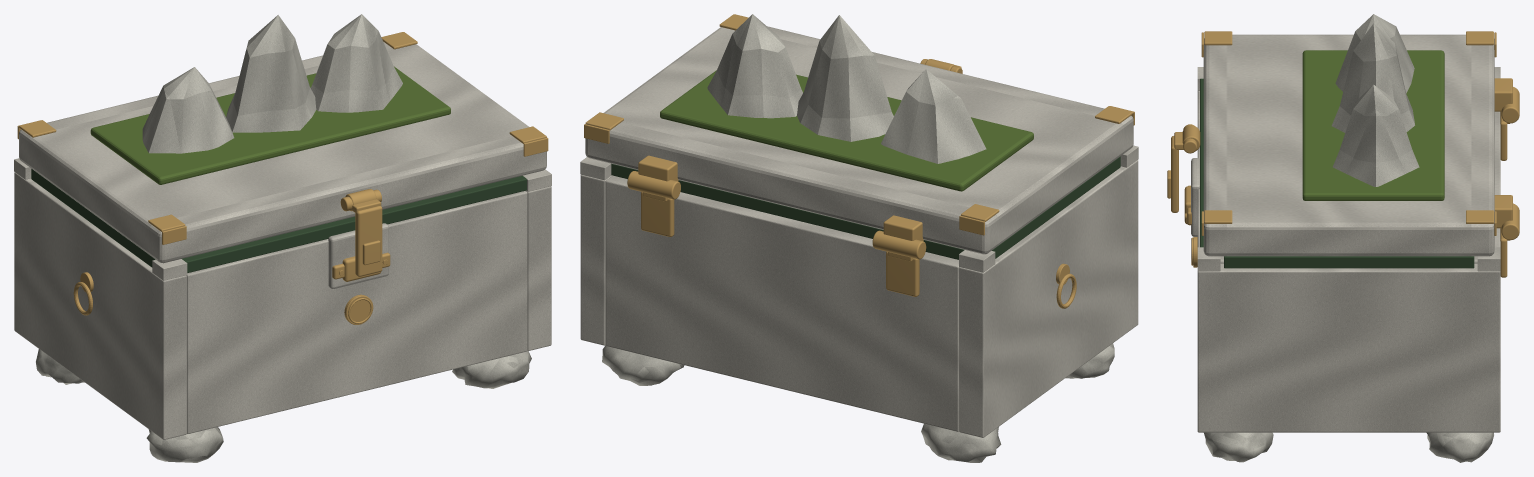
The model's file is liechtenstein.glb.
The picture shows the model from 3 angles, left to right: view 1: azimuth 30°, elevation 25°; view 2: azimuth 150°, elevation 25°; view 3: azimuth 270°, elevation 25°; orthographic projection. The views are drawn at different scales.
Visible parts, largest first — view 1: Limestone / front, Lid / polished slab, Limestone / side, Terrain / alpine meadow, Three Sisters / peak 2, Three Sisters / peak 3, Three Sisters / peak 1, Mineral seam / long, Limestone / side.001, Granite foot, Granite foot.002, Latch / lifting hasp (+5 smaller); view 2: Limestone / rear, Lid / polished slab, Limestone / side, Terrain / alpine meadow, Three Sisters / peak 2, Three Sisters / peak 3, Three Sisters / peak 1, Limestone / side.001, Mineral seam / long.001, Granite foot.001, Granite foot.003, Mineral seam / side (+9 smaller); view 3: Limestone / side.001, Lid / polished slab, Terrain / alpine meadow, Three Sisters / peak 3, Three Sisters / peak 2, Mineral seam / side.001, Granite foot.002, Granite foot.003, Three Sisters / peak 1, Limestone / rear, Mineral seam / long, Cedar / clasp seat (+11 smaller).
Boxes of the visible parts, box(x1,y1,x2,y2) form: Limestone / front: box(186, 191, 527, 433); Lid / polished slab: box(19, 42, 546, 263); Limestone / side: box(14, 172, 186, 439); Terrain / alpine meadow: box(90, 66, 450, 184); Three Sisters / peak 2: box(226, 15, 316, 132); Three Sisters / peak 3: box(310, 14, 402, 112); Three Sisters / peak 1: box(142, 67, 234, 153); Mineral seam / long: box(182, 175, 526, 272); Limestone / side.001: box(525, 186, 551, 350); Granite foot: box(146, 427, 223, 462); Granite foot.002: box(452, 350, 531, 388); Latch / lifting hasp: box(355, 206, 382, 276); Limestone / rear: box(605, 175, 959, 431); Lid / polished slab: box(585, 26, 1133, 254); Limestone / side: box(959, 160, 1138, 437); Terrain / alpine meadow: box(660, 70, 1033, 191); Three Sisters / peak 2: box(797, 15, 893, 141); Three Sisters / peak 3: box(707, 14, 802, 118); Three Sisters / peak 1: box(881, 69, 986, 163); Limestone / side.001: box(580, 174, 612, 345); Mineral seam / long.001: box(611, 163, 964, 259); Granite foot.001: box(921, 423, 1001, 462); Granite foot.003: box(602, 345, 684, 385); Mineral seam / side: box(992, 156, 1120, 258); Limestone / side.001: box(1197, 263, 1500, 432); Lid / polished slab: box(1203, 34, 1494, 256); Terrain / alpine meadow: box(1302, 50, 1444, 200); Three Sisters / peak 3: box(1333, 84, 1419, 186); Three Sisters / peak 2: box(1331, 23, 1414, 132); Mineral seam / side.001: box(1224, 256, 1474, 268); Granite foot.002: box(1204, 432, 1273, 462); Granite foot.003: box(1426, 432, 1493, 462); Three Sisters / peak 1: box(1335, 14, 1414, 93); Limestone / rear: box(1494, 111, 1500, 247); Mineral seam / long: box(1200, 78, 1203, 247); Cedar / clasp seat: box(1191, 158, 1199, 236).
Bounding box in the file's own units: 3.79 × 3.27 × 2.88.
5 materials, 2 textured.
